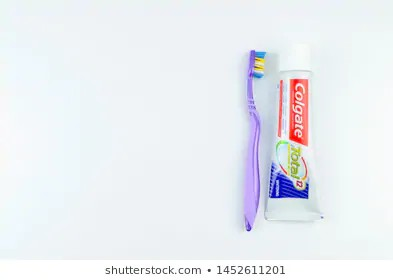colgate-total-150gm: (262, 36, 322, 224)
toothbrush: (239, 49, 271, 237)
